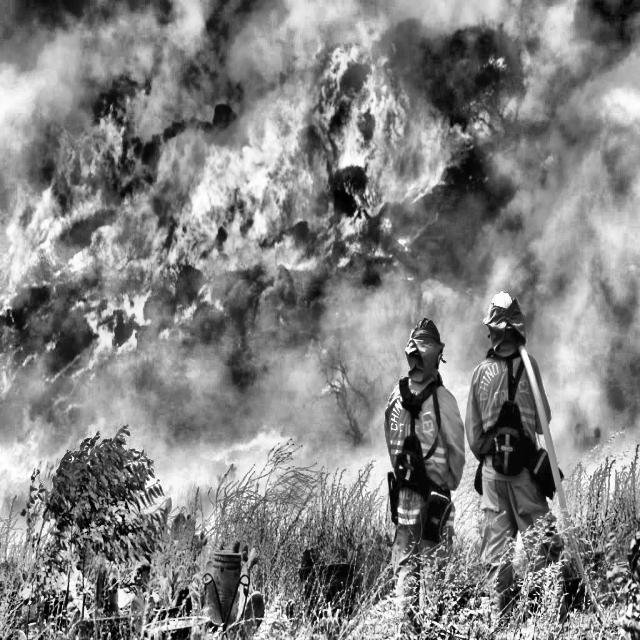fire: (0, 15, 501, 464)
